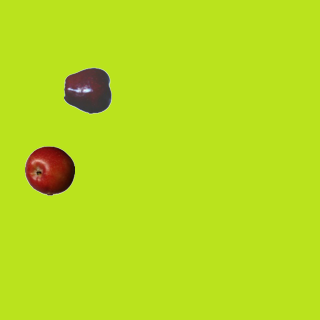Apple Braeburn: (24, 145, 74, 195)
Apple Red Delicious: (63, 65, 113, 115)
